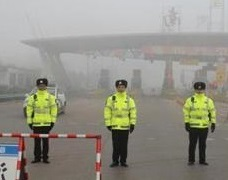person: (104, 78, 137, 168), (184, 82, 215, 166), (27, 77, 56, 164)
